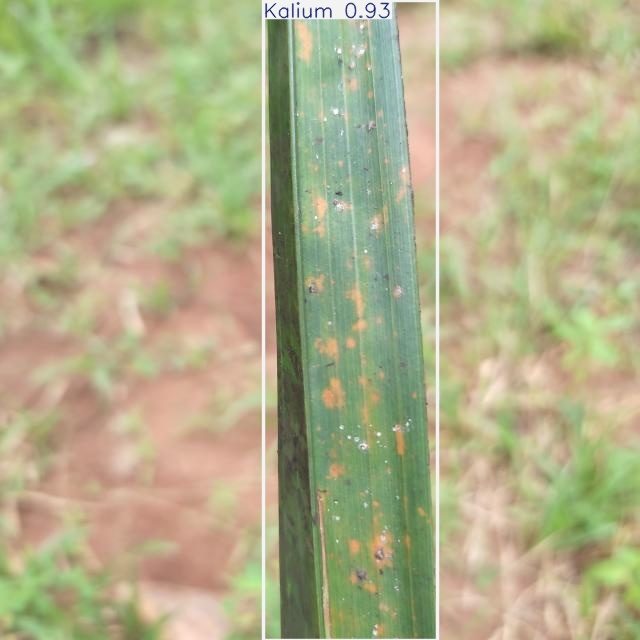Kalium: (264, 0, 438, 640)
